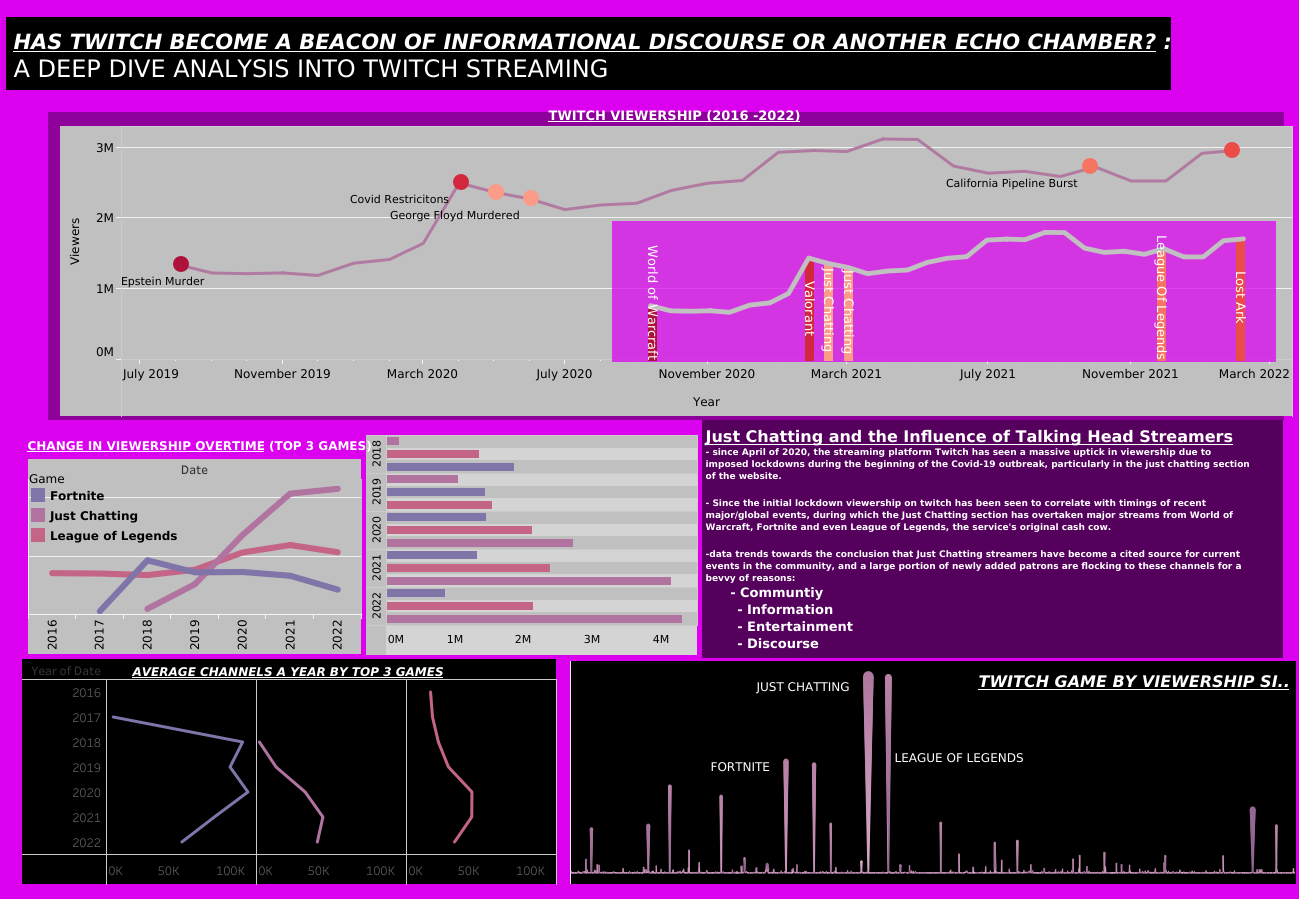

The dashboard page shown, as its layout file describes it:
{"tool":"tableau","page":{"name":"Dashboard 1","canvas":[1300,900],"ordinal":0},"visuals":[{"type":"text","box":[11,9,1188,93]},{"type":"blank","box":[6,17,1165,73]},{"type":"text","box":[546,100,261,30]},{"type":"blank","box":[48,112,1236,308]},{"type":"worksheet","title":"Sheet 7","mark":"Automatic","rows":["avg_viewers (global_twitch.csv)"],"cols":["date (global_twitch.csv)","date (event_timeline.csv)"],"box":[60,126,1233,291]},{"type":"blank","box":[612,221,664,141]},{"type":"worksheet","title":"twitch line","mark":"Automatic","rows":["avg_viewers (global_twitch.csv)"],"cols":["date (event_timeline.csv)","date (global_twitch.csv)"],"box":[618,223,657,138]},{"type":"legend","title":"channel line","param":"[federated.0bl0kzy09beudd146cwyy0xdff4c].[none:game:nk]","box":[1061,287,139,113]},{"type":"text","box":[703,416,550,259]},{"type":"blank","box":[702,420,581,238]},{"type":"text","box":[25,430,395,30]},{"type":"worksheet","title":"bar pop","mark":"Bar","rows":["date","game"],"cols":["avg_viewers"],"box":[366,435,332,221]},{"type":"legend","title":"line pop","param":"[federated.0bl0kzy09beudd146cwyy0xdff4c].[none:game:nk]","box":[28,454,184,90]},{"type":"worksheet","title":"line pop","mark":"Automatic","rows":["avg_viewers"],"cols":["date"],"box":[28,459,333,195]},{"type":"text","box":[130,656,331,30]},{"type":"worksheet","title":"channel line","mark":"Line","rows":["date"],"cols":["game","avg_channels"],"box":[22,659,585,237]},{"type":"worksheet","title":"area chart","mark":"Line","rows":["avg_viewers (twitch.csv)"],"cols":["game (twitch.csv)"],"box":[570,661,725,222]},{"type":"text","box":[976,664,319,34]},{"type":"text","box":[754,671,106,30]},{"type":"text","box":[892,742,141,30]},{"type":"text","box":[708,751,73,30]}]}

Visuals, with their boxes in screenshot pixels (x1, y1, x2, y2), scaled from the page's 1300x900 canvas onto the 1299x899 screenshot:
text: <bbox>11, 9, 1198, 102</bbox>
blank: <bbox>6, 17, 1170, 90</bbox>
text: <bbox>546, 100, 806, 130</bbox>
blank: <bbox>48, 112, 1283, 420</bbox>
"Sheet 7" worksheet: <bbox>60, 126, 1292, 417</bbox>
blank: <bbox>612, 221, 1275, 362</bbox>
"twitch line" worksheet: <bbox>618, 223, 1274, 361</bbox>
"channel line" legend: <bbox>1060, 287, 1199, 400</bbox>
text: <bbox>702, 416, 1252, 674</bbox>
blank: <bbox>701, 420, 1282, 657</bbox>
text: <bbox>25, 430, 420, 459</bbox>
"bar pop" worksheet (Bar marks): <bbox>366, 435, 697, 655</bbox>
"line pop" legend: <bbox>28, 453, 212, 543</bbox>
"line pop" worksheet: <bbox>28, 458, 361, 653</bbox>
text: <bbox>130, 655, 461, 685</bbox>
"channel line" worksheet (Line marks): <bbox>22, 658, 607, 895</bbox>
"area chart" worksheet (Line marks): <bbox>570, 660, 1294, 882</bbox>
text: <bbox>975, 663, 1294, 697</bbox>
text: <bbox>753, 670, 859, 700</bbox>
text: <bbox>891, 741, 1032, 771</bbox>
text: <bbox>707, 750, 780, 780</bbox>
